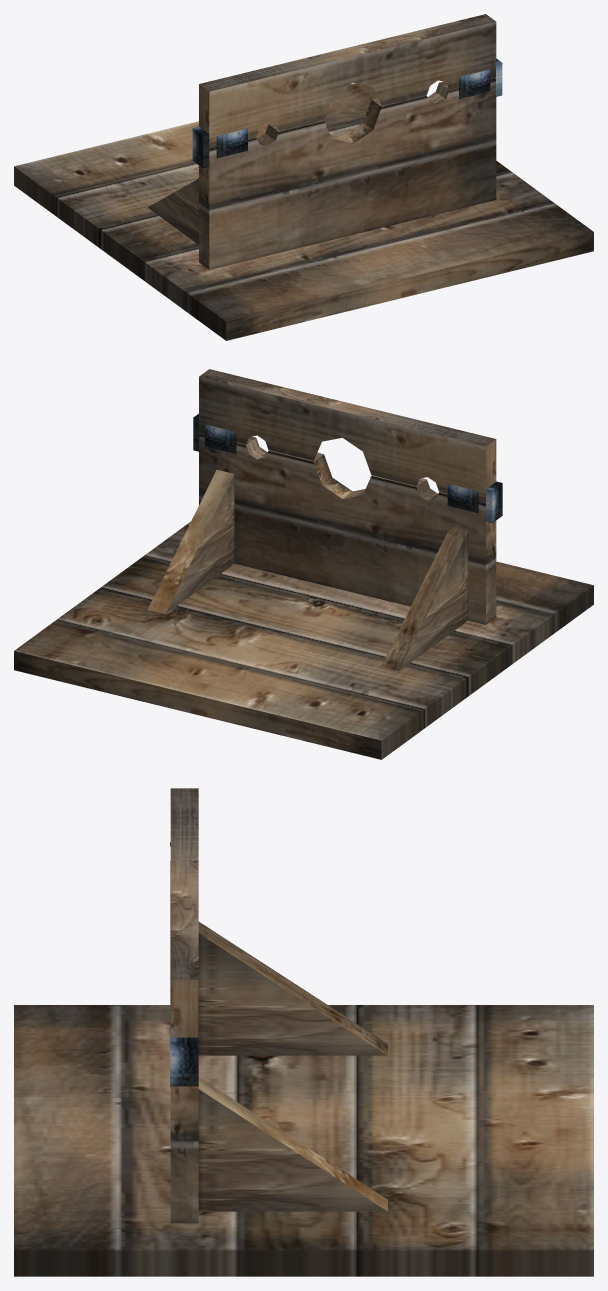
The model's file is building_torture_stocks.glb.
3 renders of one model, top to bottom at view 1: azimuth 30°, elevation 25°; view 2: azimuth 150°, elevation 25°; view 3: azimuth 270°, elevation 25°, orthographic. The views are drawn at different scales.
Parts seen in each view (by area): view 1: building_torture_stocks; view 2: building_torture_stocks; view 3: building_torture_stocks.
Part boxes in pixels (x1,y1,x2,y2): building_torture_stocks: (14, 14, 593, 340); building_torture_stocks: (14, 369, 593, 759); building_torture_stocks: (14, 788, 593, 1276).
Bounding box in the file's own units: 2.05 × 1.05 × 2.05.
Materials: 2 (2 with a texture image).
